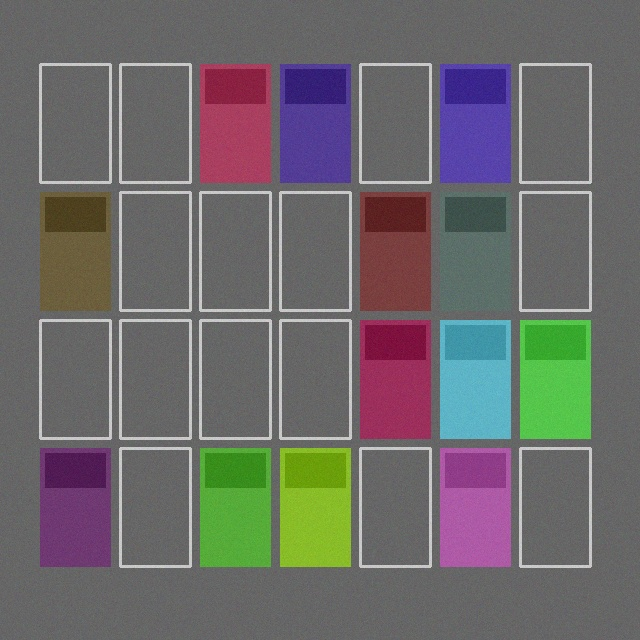space-empty: (40, 64, 110, 182), (120, 64, 190, 182), (360, 64, 430, 182), (520, 64, 590, 182), (120, 192, 190, 310), (200, 192, 270, 310), (280, 192, 350, 310), (520, 192, 590, 310), (40, 320, 110, 438), (120, 320, 190, 438), (200, 320, 270, 438), (280, 320, 350, 438), (120, 448, 190, 566), (360, 448, 430, 566), (520, 448, 590, 566)
space-occupied: (200, 64, 270, 182), (280, 64, 350, 182), (440, 64, 510, 182), (40, 192, 110, 310), (360, 192, 430, 310), (440, 192, 510, 310), (360, 320, 430, 438), (440, 320, 510, 438), (520, 320, 590, 438), (40, 448, 110, 566), (200, 448, 270, 566), (280, 448, 350, 566), (440, 448, 510, 566)
